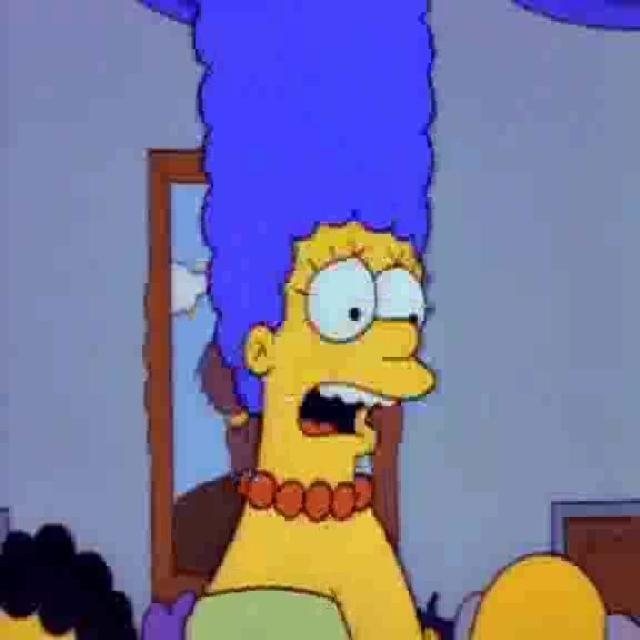Marge Simpson: (190, 0, 438, 526)
